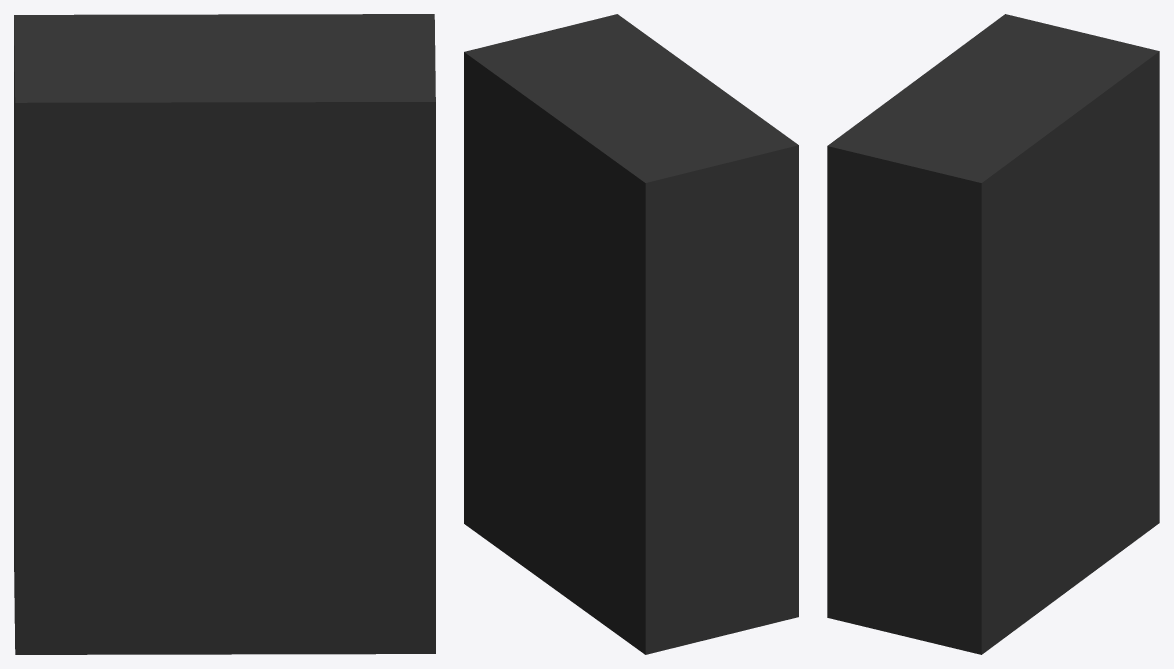
Rendered from Breakable1.fbx.
3 renders of one model, left to right at view 1: azimuth 30°, elevation 25°; view 2: azimuth 150°, elevation 25°; view 3: azimuth 270°, elevation 25°, orthographic. The views are drawn at different scales.
Visible parts, largest first — view 1: Breakable1; view 2: Breakable1; view 3: Breakable1.
Boxes of the visible parts, x1,y1,x2,y2 form: Breakable1: [14, 14, 435, 654]; Breakable1: [464, 14, 798, 654]; Breakable1: [827, 14, 1159, 654].
Size of the model in its own units: 16.7 by 21.72 by 13.87.
1 material, 1 textured.
